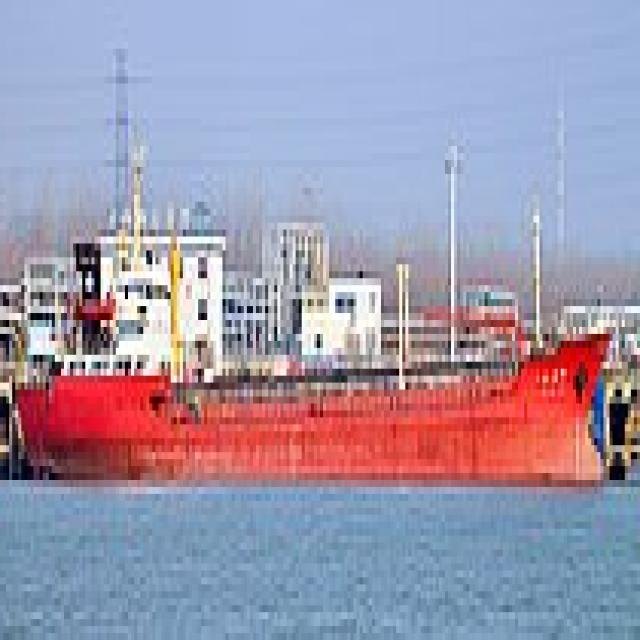Tanker: (12, 216, 616, 480)
